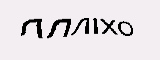І: (91, 17, 100, 35)
Л: (70, 17, 90, 36)
О: (116, 20, 135, 38)
П: (46, 17, 72, 39), (20, 17, 44, 40)
Х: (98, 17, 118, 37)
